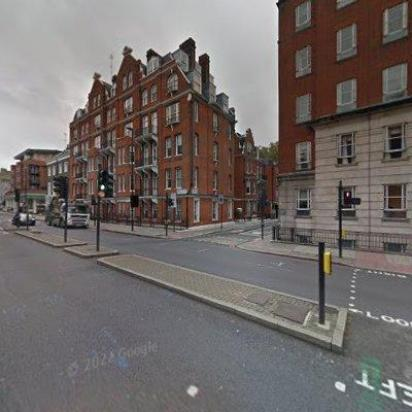moving-car: (12, 210, 34, 228)
moving-heavy-truck: (43, 196, 89, 228)
